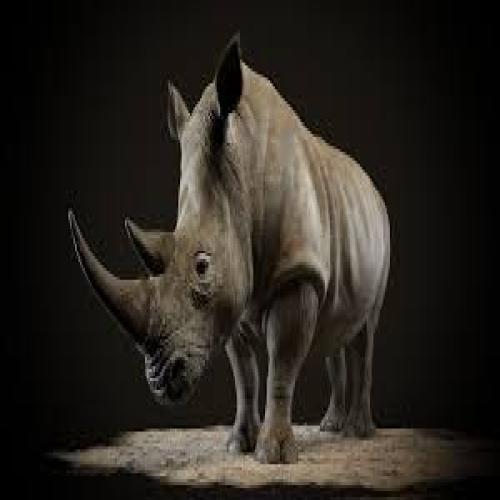rhino-endangered: (69, 41, 390, 452)
